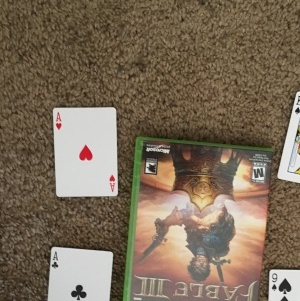card: (50, 104, 120, 197)
